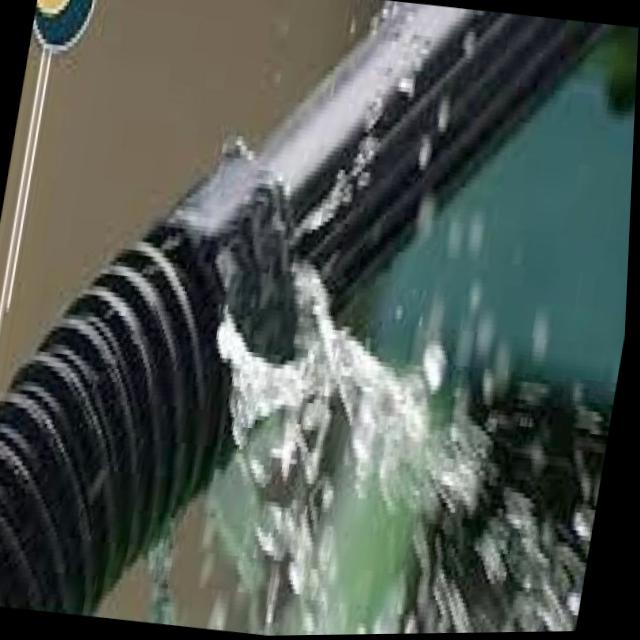leak: (208, 249, 597, 635), (289, 33, 434, 222)
